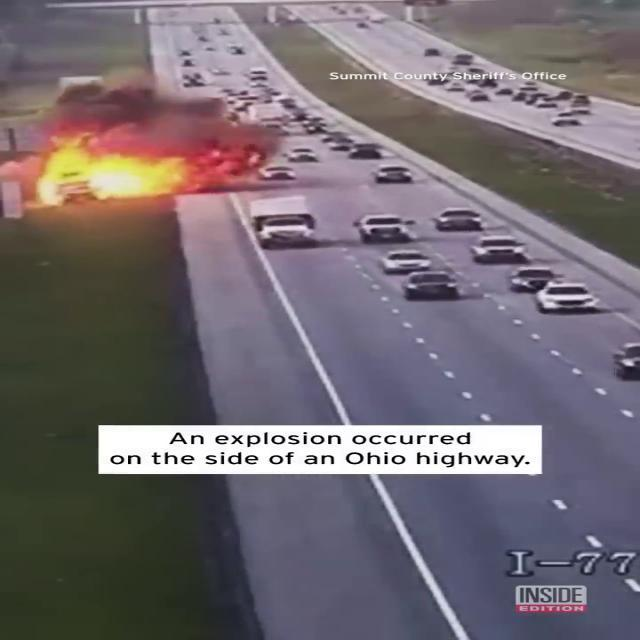Fire: (28, 135, 212, 205)
Smoke: (36, 58, 262, 148)
